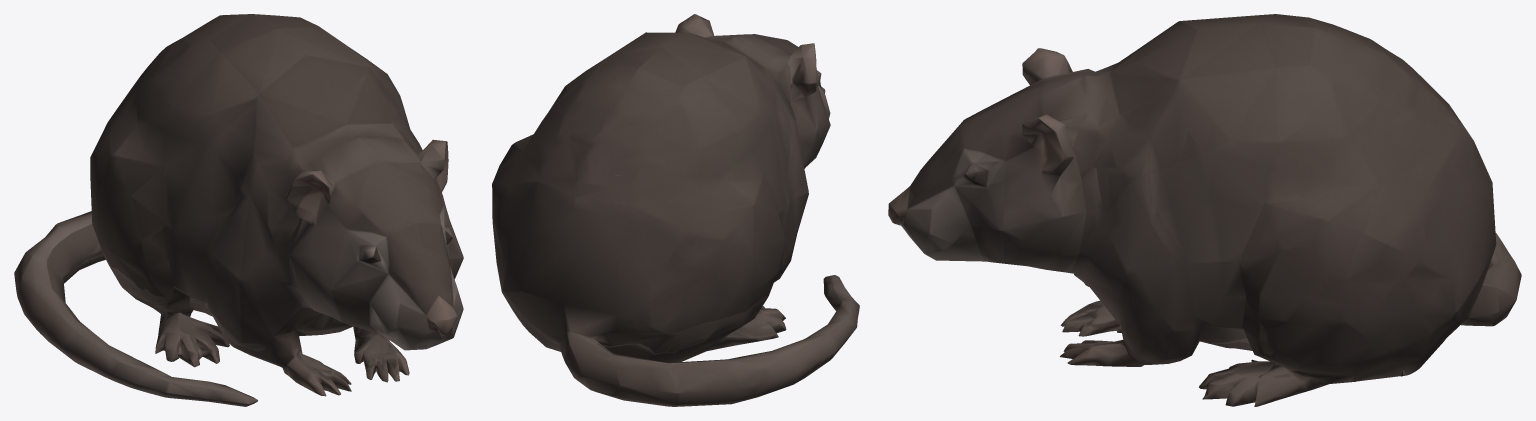
Rendered from Meshy_AI_Low_Poly_Beaver_0811082534_texture.glb.
The picture shows the model from 3 angles, left to right: view 1: azimuth 30°, elevation 25°; view 2: azimuth 150°, elevation 25°; view 3: azimuth 270°, elevation 25°; orthographic projection. The views are drawn at different scales.
Visible parts, largest first — view 1: Mesh1.0; view 2: Mesh1.0; view 3: Mesh1.0.
Boxes of the visible parts, bbox=[...] form: Mesh1.0: bbox=[14, 14, 463, 406]; Mesh1.0: bbox=[492, 14, 859, 406]; Mesh1.0: bbox=[888, 14, 1521, 406].
Bounding box in the file's own units: 1.3 × 1.05 × 1.9.
Materials: 1 (1 with a texture image).
